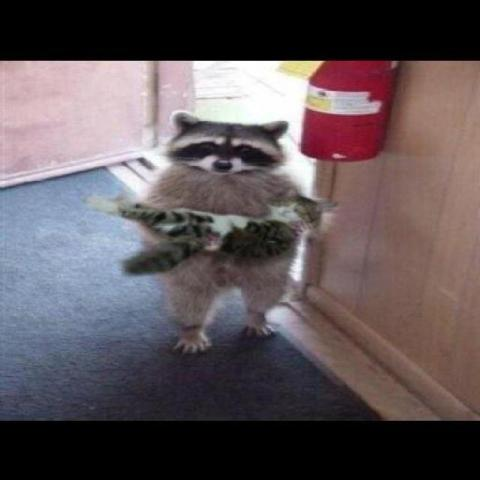small_animal: (100, 107, 332, 355), (100, 189, 331, 282)
